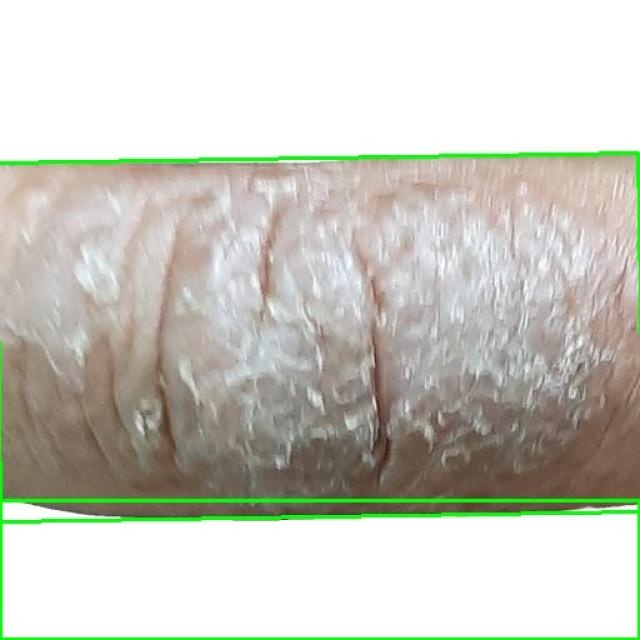Eczema: (0, 154, 640, 522), (0, 500, 639, 639)
